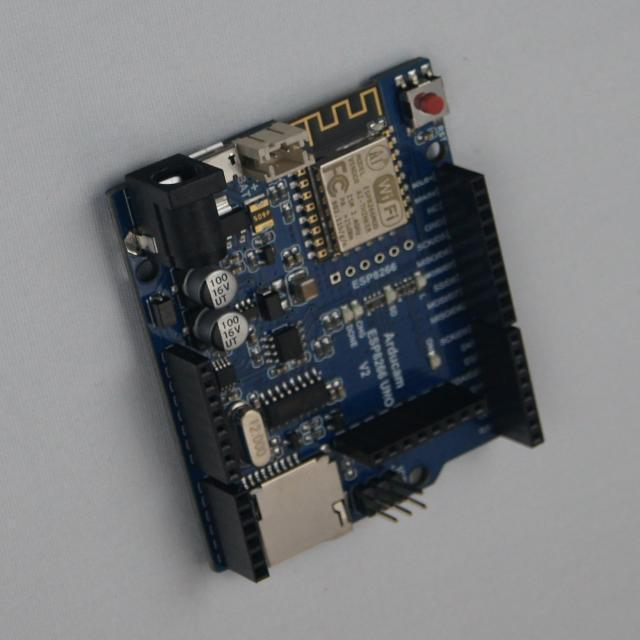Arduino Uno Camera Shield: (110, 58, 544, 582)
